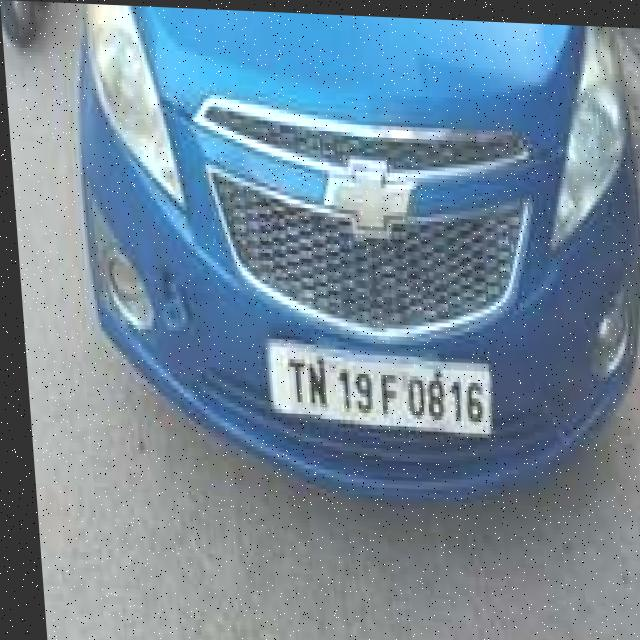plate: (259, 339, 491, 441)
